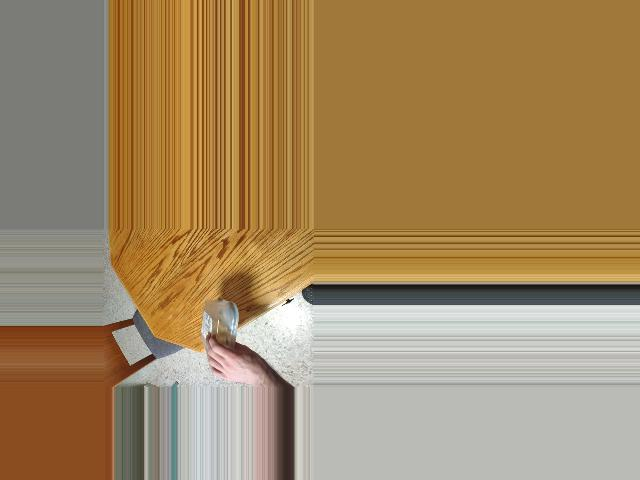cheese: (188, 299, 262, 353)
